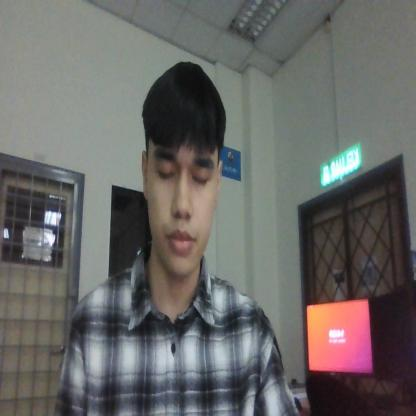Closed-Eyes: (151, 148, 217, 194)
